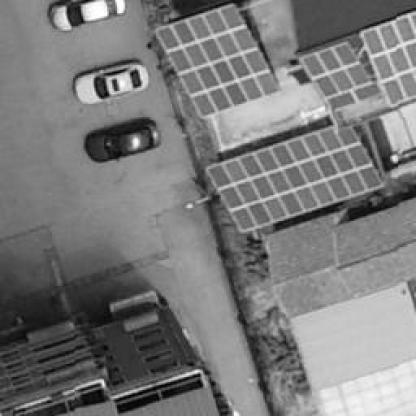solar-pv-panel: (204, 126, 385, 233), (153, 3, 282, 119), (301, 40, 381, 111), (361, 10, 416, 107)
